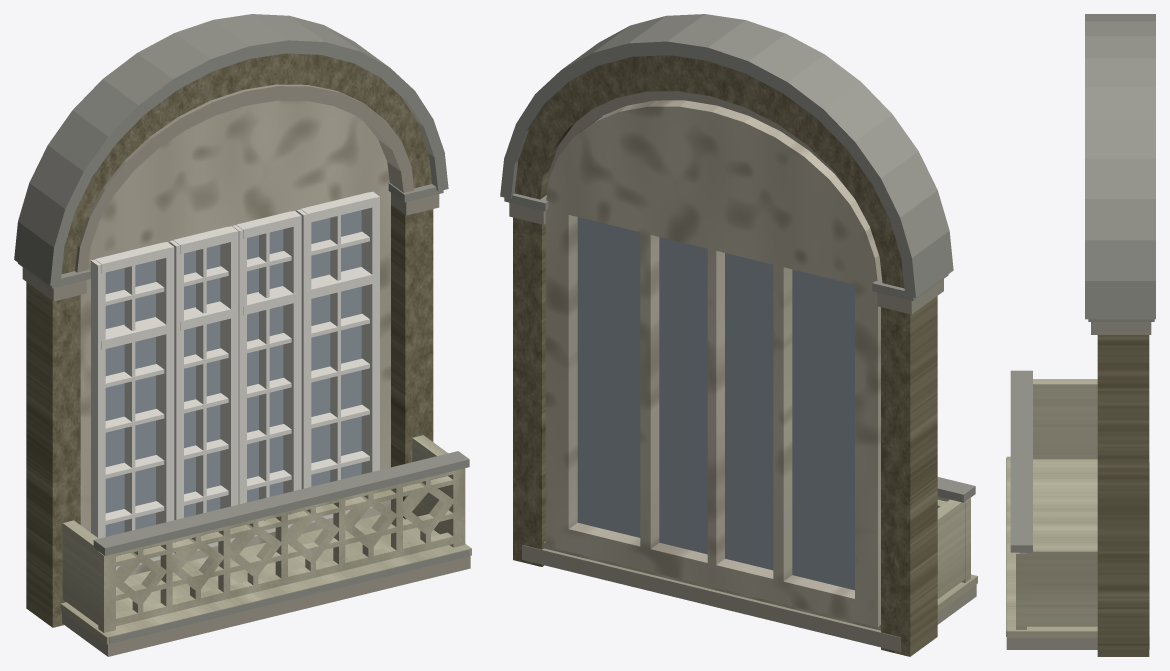
The model's file is zhoushan-394-arched-window-and-diamond-balcony-far.glb.
3 views of the same model, side by side, from view 1: azimuth 30°, elevation 25°; view 2: azimuth 150°, elevation 25°; view 3: azimuth 270°, elevation 25° (orthographic). The views are drawn at different scales.
Visible parts, largest first — view 1: 舟山路394号住宅二层弧形窗罩与六菱格阳台; view 2: 舟山路394号住宅二层弧形窗罩与六菱格阳台; view 3: 舟山路394号住宅二层弧形窗罩与六菱格阳台.
Part boxes in pixels (x1,y1,x2,y2): 舟山路394号住宅二层弧形窗罩与六菱格阳台: [14, 14, 471, 656]; 舟山路394号住宅二层弧形窗罩与六菱格阳台: [500, 14, 977, 656]; 舟山路394号住宅二层弧形窗罩与六菱格阳台: [1006, 14, 1155, 656].
Size of the model in its own units: 3.25 by 4.21 by 1.08.
7 materials, 3 textured.
